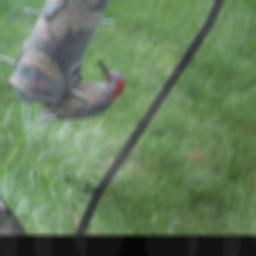Woodpecker: (32, 48, 131, 147)
